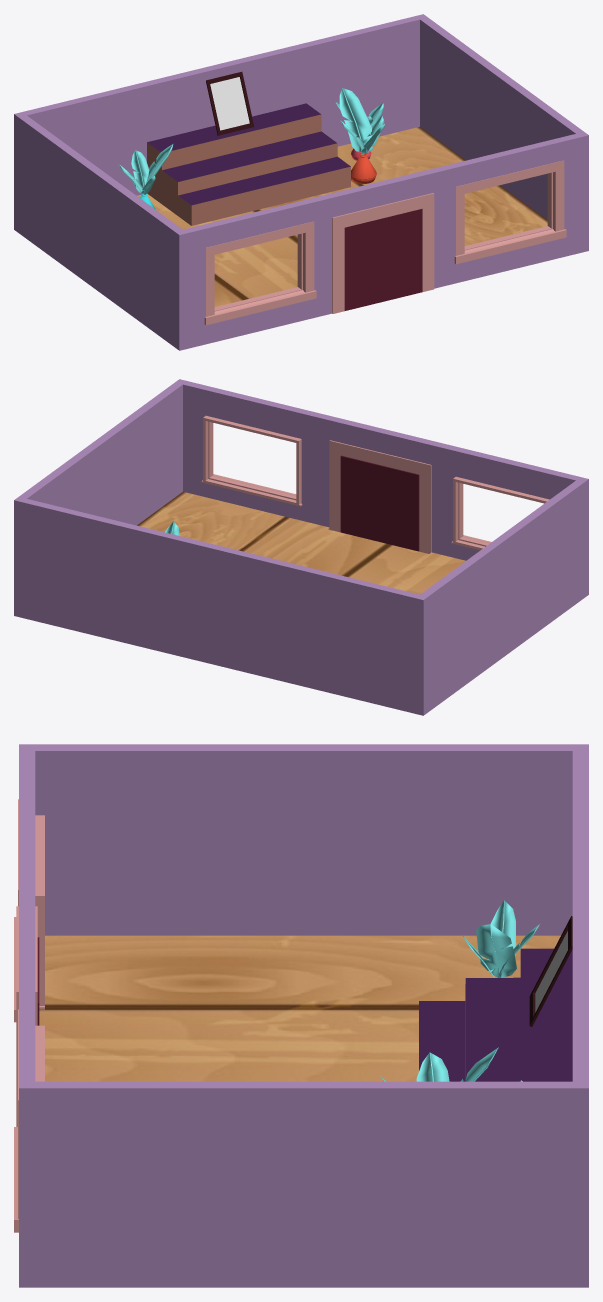
Rendered from chibi_character_TOwn_01_abuela_House.fbx.
The picture shows the model from 3 angles, top to bottom: view 1: azimuth 30°, elevation 25°; view 2: azimuth 150°, elevation 25°; view 3: azimuth 270°, elevation 25°; orthographic projection. The views are drawn at different scales.
Parts seen in each view (by area): view 1: Wall, Cube.001, Window, Window.001, Door, Panel, Panel.001, Plane.001, Plane, Plane.003; view 2: Wall, Door, Panel, Panel.001, Window, Window.001; view 3: Wall, Cube.001, Plane.003, Window.001, Plane, Window, Plane.001, Door.
Part boxes in pixels (x1,y1,x2,y2): Wall: (14,14,588,350); Cube.001: (147,103,350,225); Window: (454,160,566,264); Window.001: (204,221,316,325); Door: (332,193,434,313); Panel: (344,218,383,310); Panel.001: (383,209,422,301); Plane.001: (339,88,384,183); Plane: (206,71,254,135); Plane.003: (118,144,173,209); Wall: (14,379,588,715); Door: (329,440,431,553); Panel: (379,465,419,551); Panel.001: (340,455,379,541); Window: (201,415,302,506); Window.001: (451,476,549,550); Wall: (19,744,588,1287); Cube.001: (419,948,572,1081); Plane.003: (462,900,539,977); Window.001: (14,799,44,1022); Plane: (529,916,572,1026); Window: (14,1009,44,1232); Plane.001: (380,1047,498,1081); Door: (16,906,37,1126).
Size of the model in its own units: 1000 by 270 by 706.
18 materials, 6 textured.
